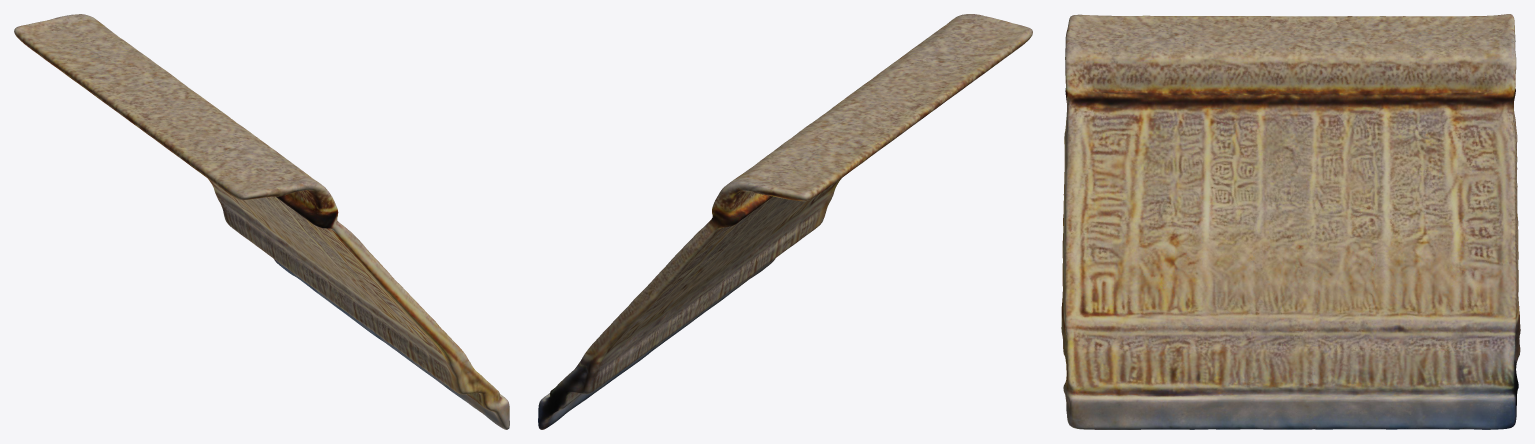
File: 35a0d24ff60c_An_indoor_egyptian_.fbx
3 views of the same model, side by side, from view 1: azimuth 30°, elevation 25°; view 2: azimuth 150°, elevation 25°; view 3: azimuth 270°, elevation 25° (orthographic). The views are drawn at different scales.
Parts seen in each view (by area): view 1: high_poly; view 2: high_poly; view 3: high_poly.
Boxes of the visible parts, <box> form: high_poly: <box>14,14,509,429</box>; high_poly: <box>538,14,1032,429</box>; high_poly: <box>1061,14,1520,429</box>.
Size of the model in its own units: 65.95 by 70.1 by 100.
